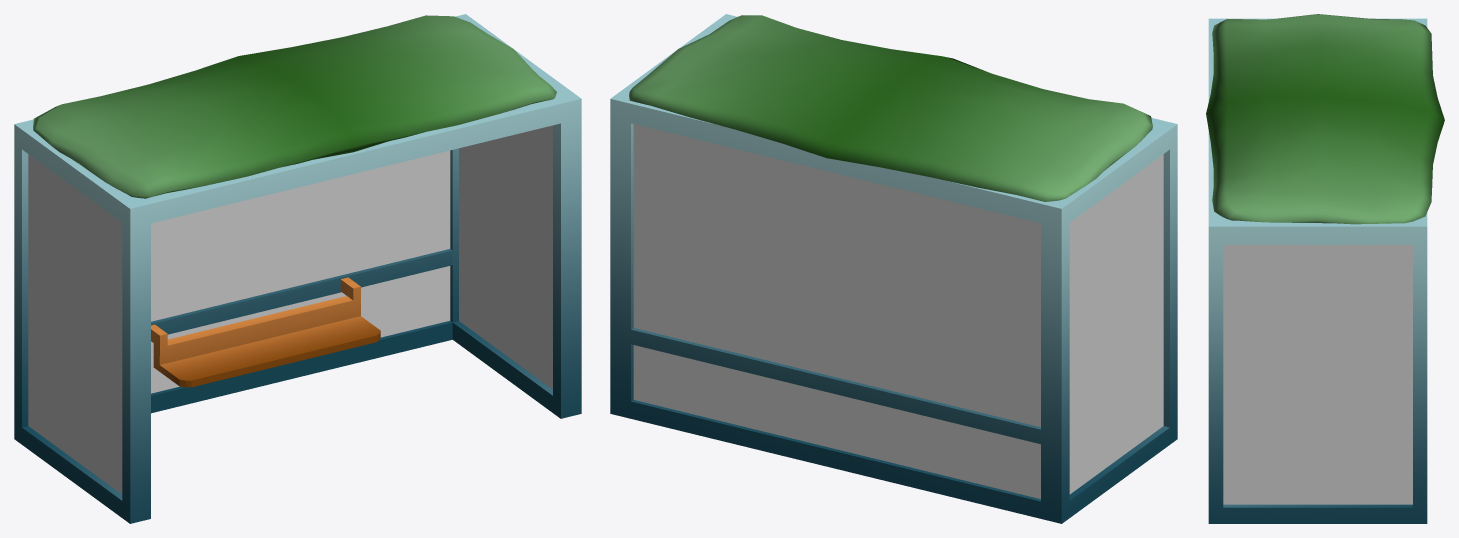
File: Bushokje.fbx
3 renders of one model, left to right at view 1: azimuth 30°, elevation 25°; view 2: azimuth 150°, elevation 25°; view 3: azimuth 270°, elevation 25°, orthographic. The views are drawn at different scales.
Visible parts, largest first — view 1: Bushokje, Plantjes, Glas, Glas.001; view 2: Glas.001, Plantjes, Bushokje, Glas; view 3: Glas, Plantjes, Bushokje.
Part boxes in pixels (x1,y1,x2,y2): Bushokje: [14, 14, 581, 523]; Plantjes: [33, 15, 556, 198]; Glas: [28, 125, 552, 494]; Glas.001: [151, 150, 450, 393]; Glas.001: [633, 124, 1040, 498]; Plantjes: [629, 15, 1152, 201]; Bushokje: [610, 14, 1177, 523]; Glas: [1069, 154, 1163, 494]; Glas: [1223, 245, 1412, 504]; Plantjes: [1206, 14, 1444, 224]; Bushokje: [1208, 18, 1427, 523].
Size of the model in its own units: 450 by 332 by 218.
